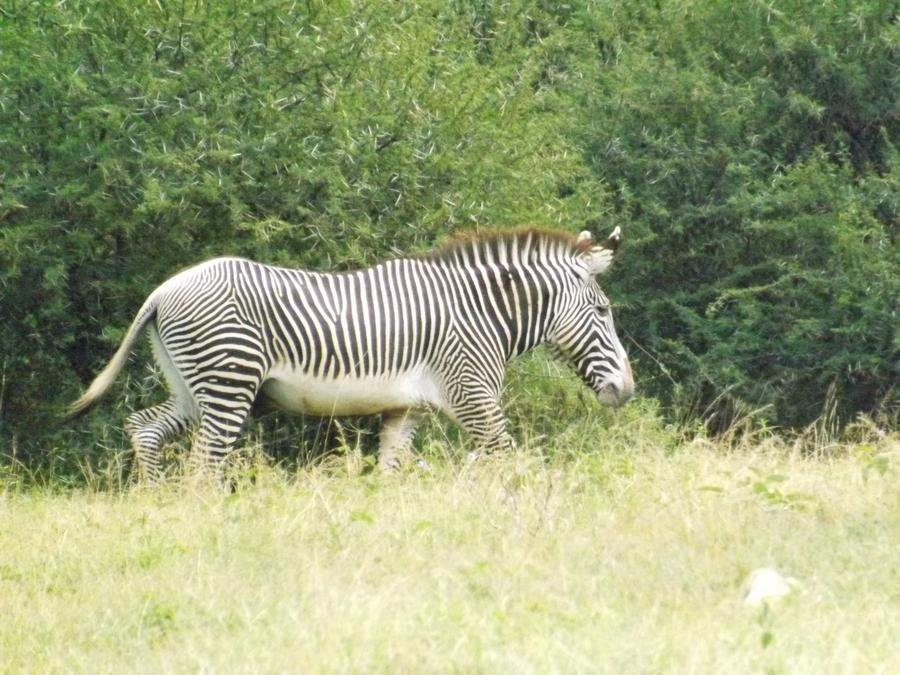zebra_grevys: (149, 265, 504, 398)
